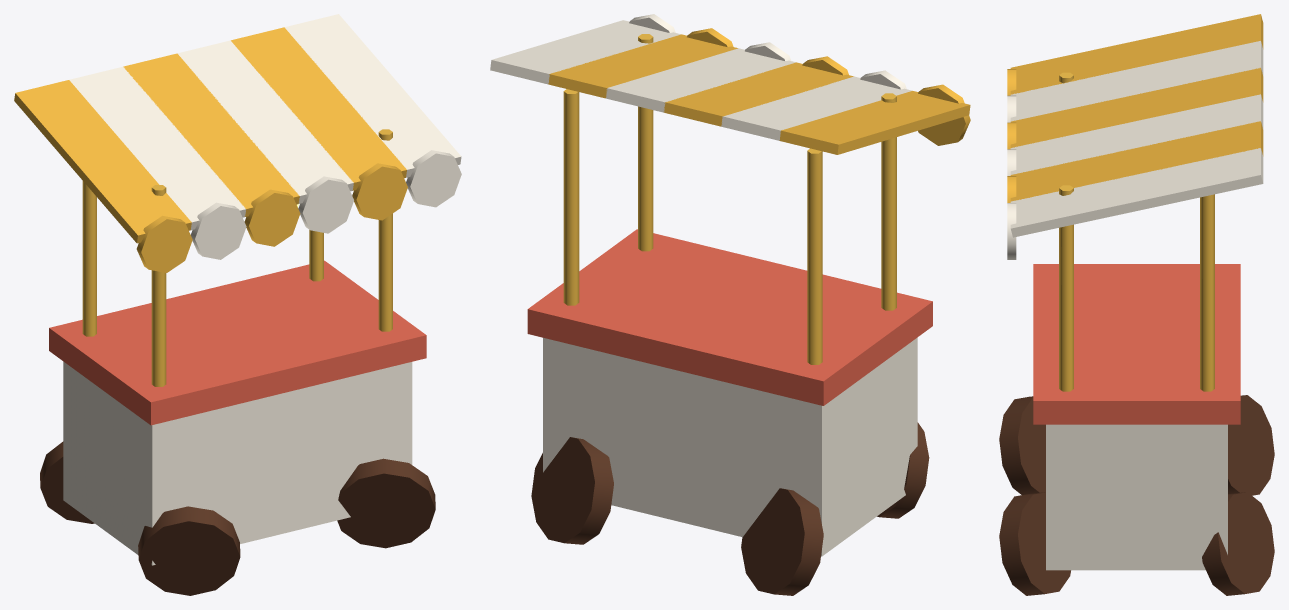
Rendered from food-cart.glb.
The picture shows the model from 3 angles, left to right: view 1: azimuth 30°, elevation 25°; view 2: azimuth 150°, elevation 25°; view 3: azimuth 270°, elevation 25°; orthographic projection. The views are drawn at different scales.
Visible parts, largest first — view 1: Mesh_warmWhite, Mesh_mango, Mesh_coral, Mesh_darkWood, Mesh_gold; view 2: Mesh_warmWhite, Mesh_coral, Mesh_mango, Mesh_darkWood, Mesh_gold; view 3: Mesh_warmWhite, Mesh_coral, Mesh_mango, Mesh_darkWood, Mesh_gold.
Part boxes in pixels (x1,y1,x2,y2): Mesh_warmWhite: (63, 14, 461, 565); Mesh_mango: (14, 27, 407, 272); Mesh_coral: (49, 260, 426, 425); Mesh_darkWood: (40, 441, 435, 595); Mesh_gold: (82, 129, 392, 386); Mesh_warmWhite: (490, 14, 917, 556); Mesh_coral: (527, 229, 932, 405); Mesh_mango: (548, 28, 970, 154); Mesh_darkWood: (531, 422, 929, 595); Mesh_gold: (563, 34, 896, 364); Mesh_warmWhite: (1007, 41, 1263, 570); Mesh_coral: (1033, 264, 1240, 424); Mesh_mango: (1007, 14, 1263, 202); Mesh_darkWood: (999, 395, 1274, 595); Mesh_gold: (1059, 72, 1214, 391).
Size of the model in its own units: 2.05 by 2.67 by 1.49.
